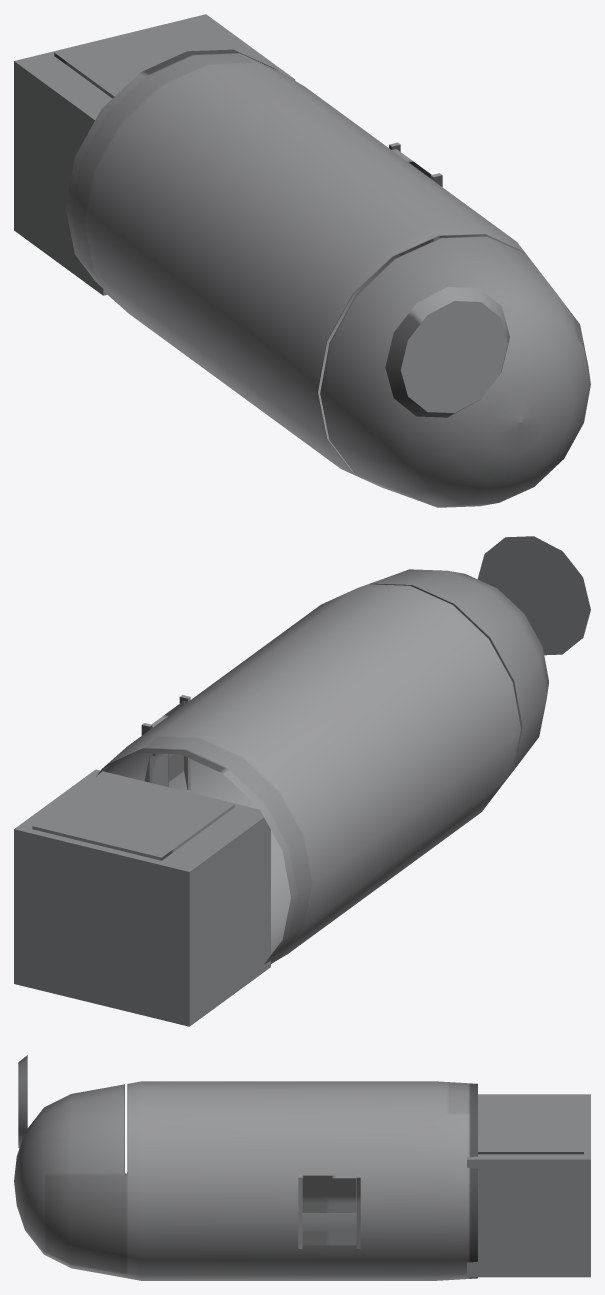
3 renders of one model, top to bottom at view 1: azimuth 30°, elevation 25°; view 2: azimuth 150°, elevation 25°; view 3: azimuth 270°, elevation 25°, orthographic. The views are drawn at different scales.
Bounding box in the file's own units: 0.7417 × 0.7707 × 2.11.
